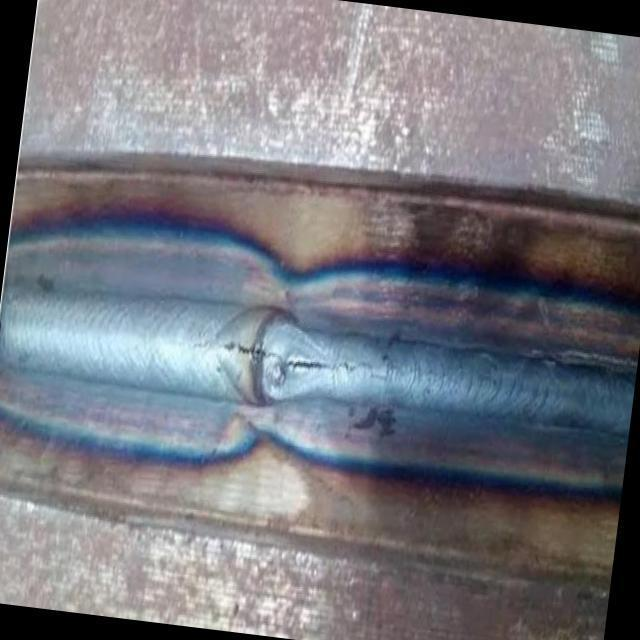defect: (217, 338, 390, 388)
